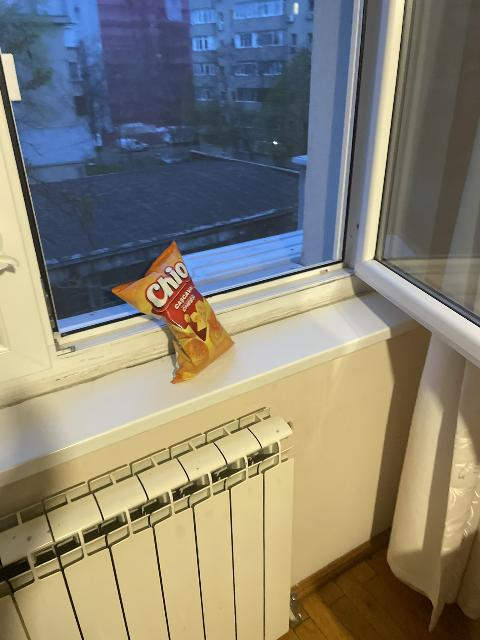Chio Cascaval 125g: (110, 240, 237, 385)
